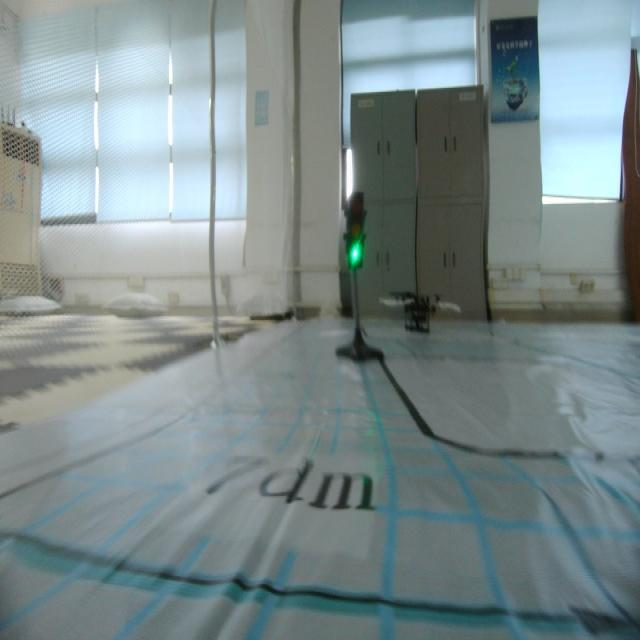green: (340, 187, 370, 276)
